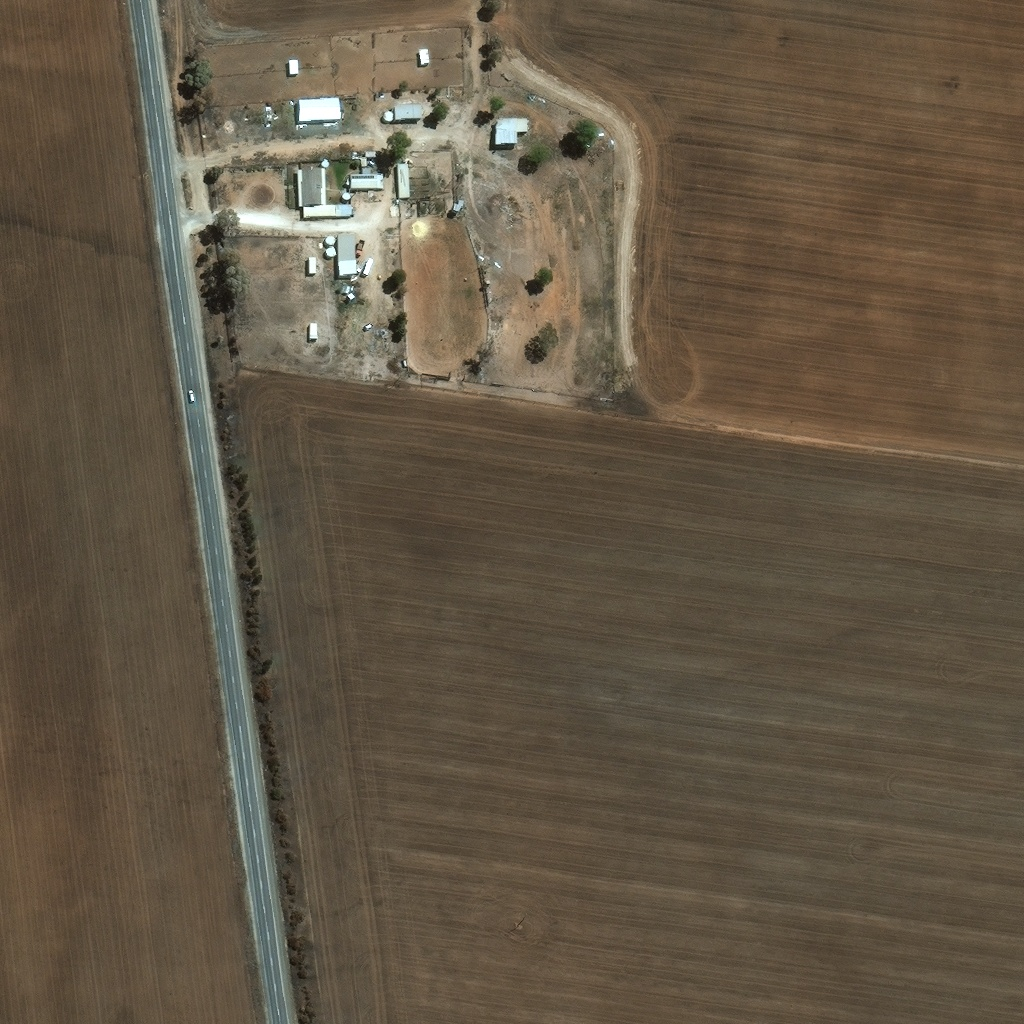0 no-damage: (297, 168, 352, 217), (298, 98, 341, 122), (495, 119, 528, 146), (338, 233, 358, 277), (350, 166, 385, 189), (393, 104, 423, 122), (397, 160, 410, 199), (308, 322, 319, 344), (452, 199, 465, 214), (325, 233, 338, 246), (419, 50, 430, 65), (341, 285, 352, 300), (325, 246, 339, 257), (308, 256, 317, 273), (290, 58, 300, 73), (383, 110, 395, 122), (321, 159, 332, 169), (342, 191, 352, 201), (367, 150, 377, 158), (344, 177, 351, 185), (361, 158, 368, 165)
3 destroyed: (267, 104, 274, 119)
4 un-classified: (494, 149, 507, 161), (380, 122, 399, 129), (358, 105, 367, 116), (356, 194, 362, 206), (362, 194, 367, 200)
